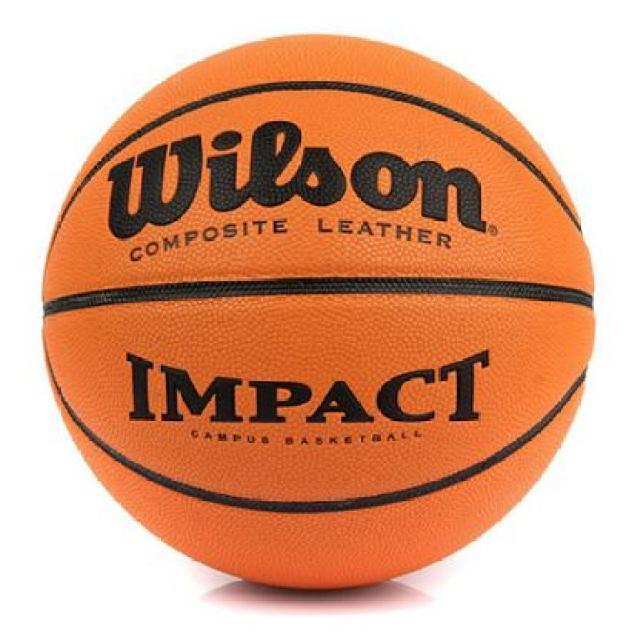basketball: (41, 31, 595, 593)
